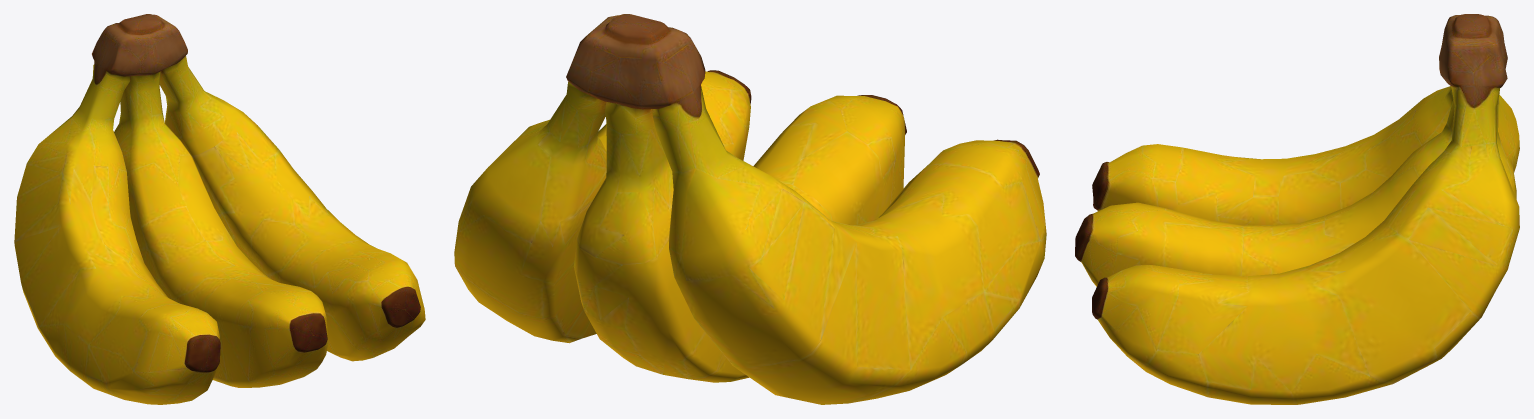
Rendered from b03_banana.glb.
The picture shows the model from 3 angles, left to right: view 1: azimuth 30°, elevation 25°; view 2: azimuth 150°, elevation 25°; view 3: azimuth 270°, elevation 25°; orthographic projection. The views are drawn at different scales.
Parts seen in each view (by area): view 1: geometry_0; view 2: geometry_0; view 3: geometry_0.
Boxes of the visible parts, bbox=[...] form: geometry_0: bbox=[14, 14, 425, 404]; geometry_0: bbox=[454, 14, 1046, 404]; geometry_0: bbox=[1075, 14, 1519, 404].
Bounding box in the file's own units: 0.8638 × 0.7788 × 0.9561.
Materials: 1 (1 with a texture image).
